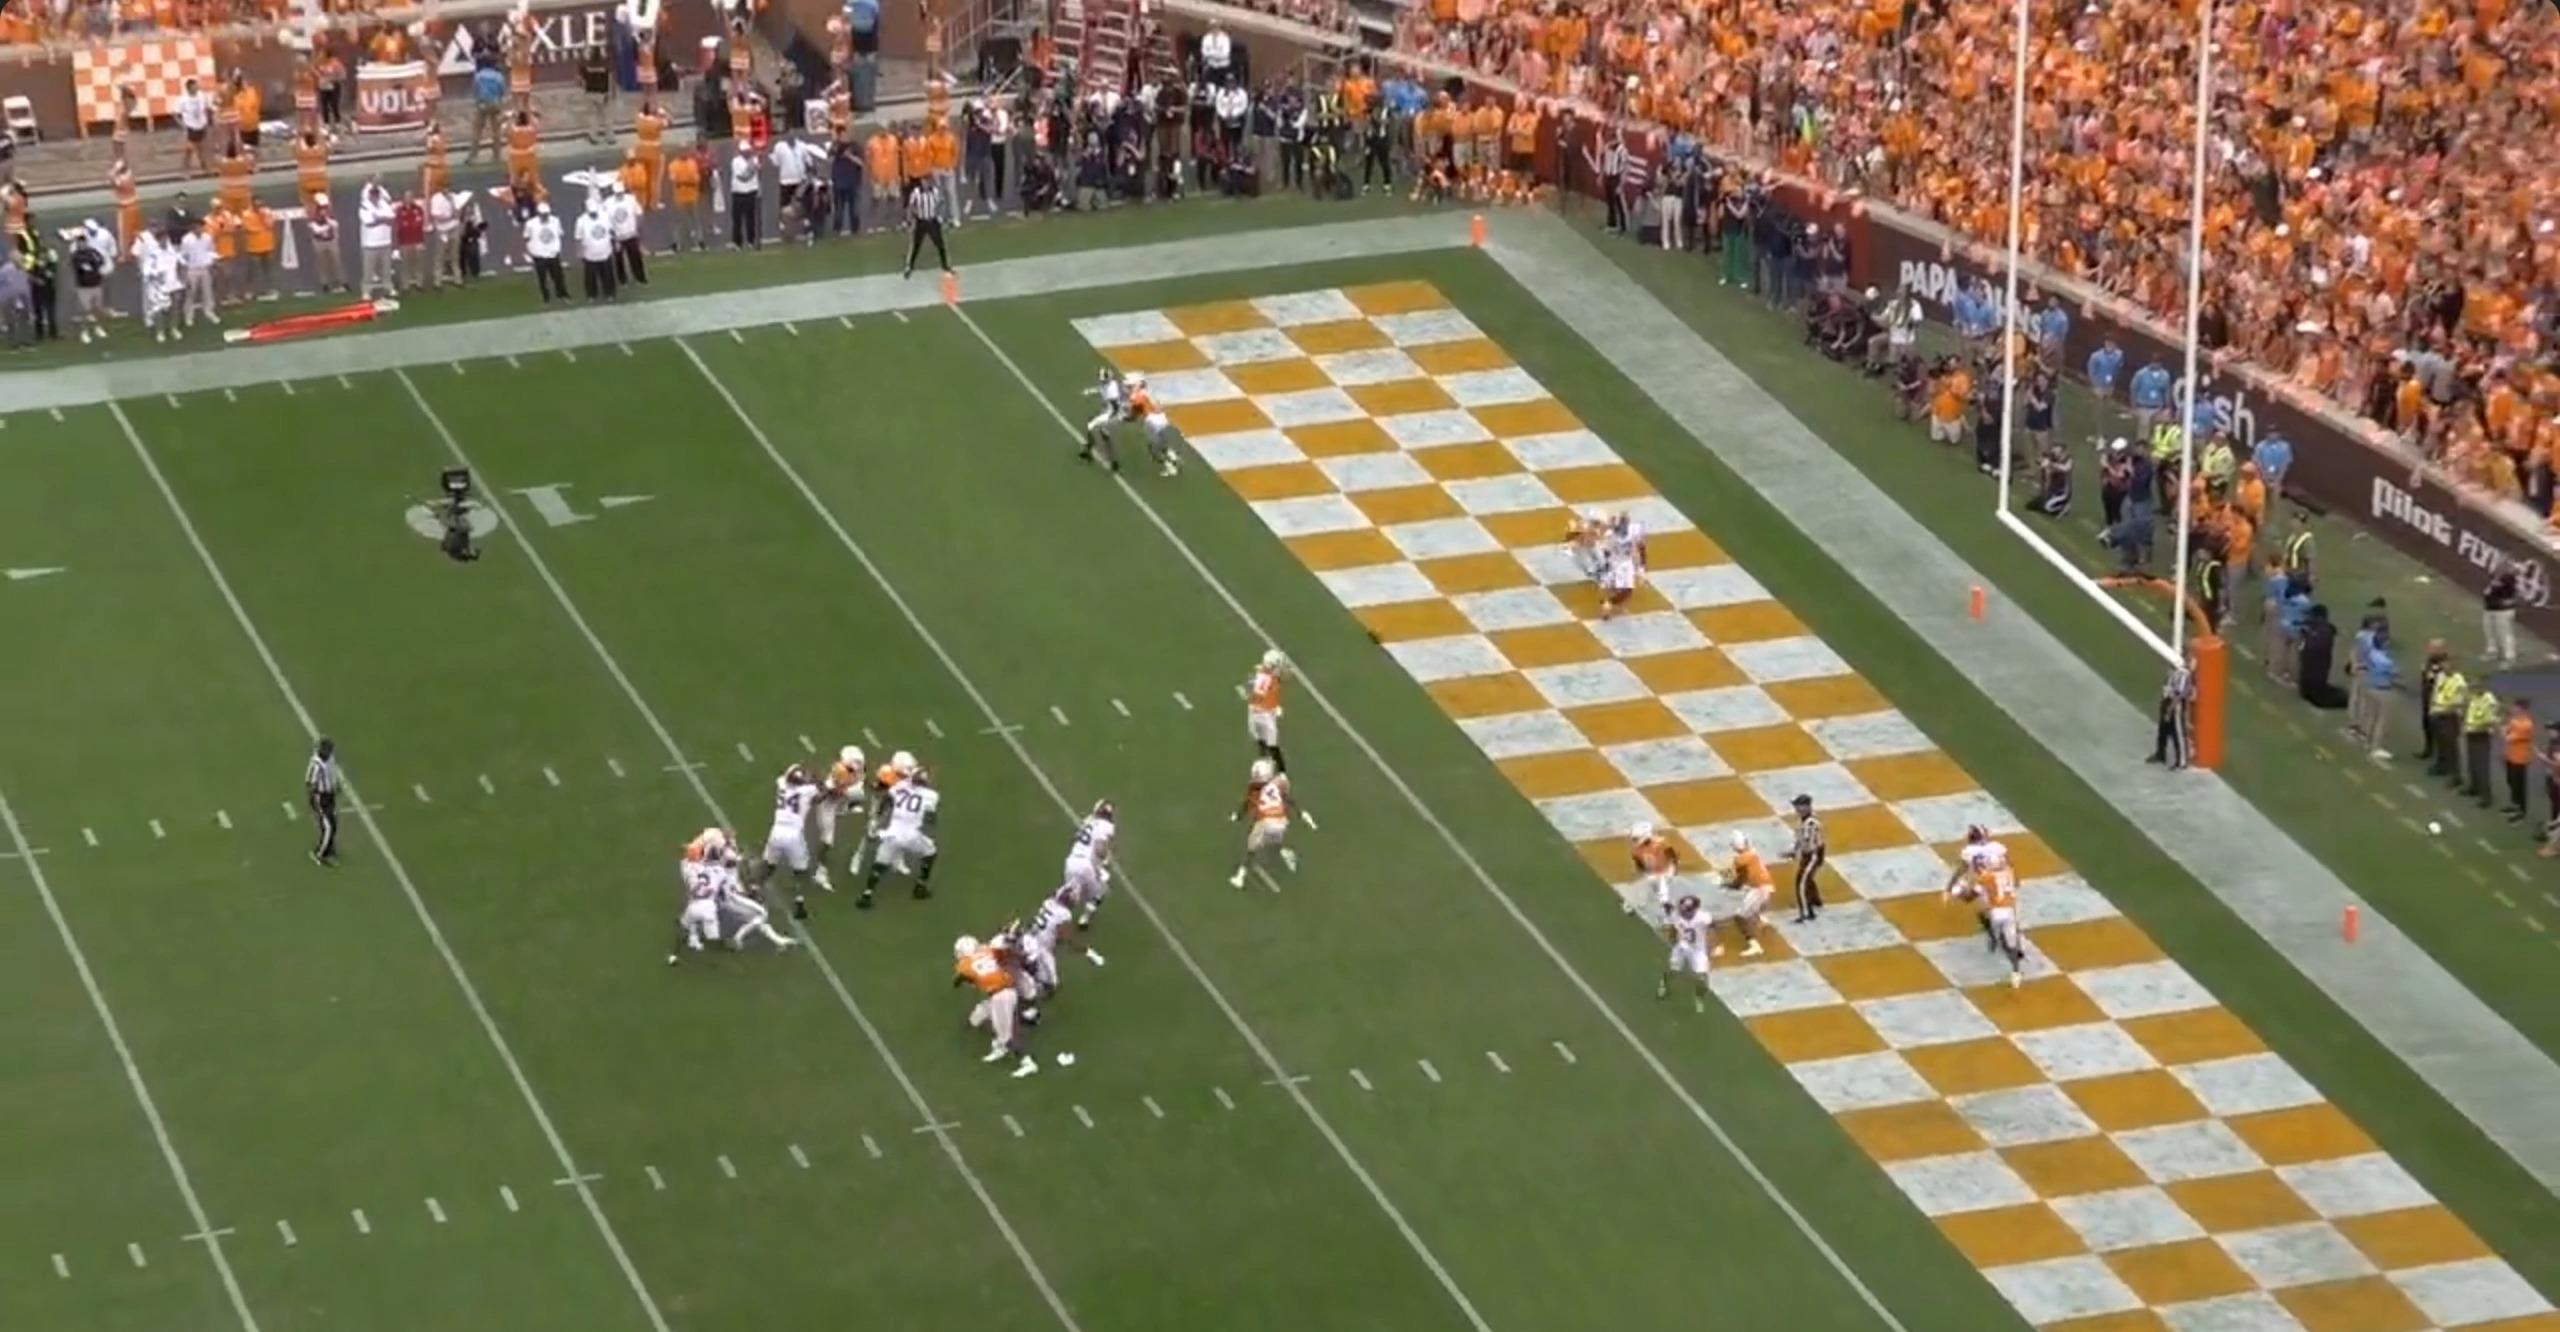defense: (947, 930, 1041, 1078), (1237, 758, 1321, 898), (850, 745, 921, 876), (1963, 852, 2028, 991), (1239, 640, 1304, 769), (1622, 814, 1681, 952), (1720, 829, 1783, 958), (1083, 357, 1147, 478), (820, 745, 882, 864), (1562, 501, 1604, 583), (678, 824, 728, 864)
oline: (850, 761, 945, 910), (744, 767, 836, 902), (1051, 798, 1123, 931), (1031, 884, 1108, 990), (991, 911, 1053, 1029)
qb: (718, 848, 803, 955)
ref: (903, 172, 970, 290), (299, 740, 355, 879), (1784, 792, 1835, 930)
skill: (1643, 889, 1715, 1022), (1126, 368, 1193, 480), (669, 844, 728, 966), (1941, 818, 2012, 908), (1591, 509, 1647, 622)
